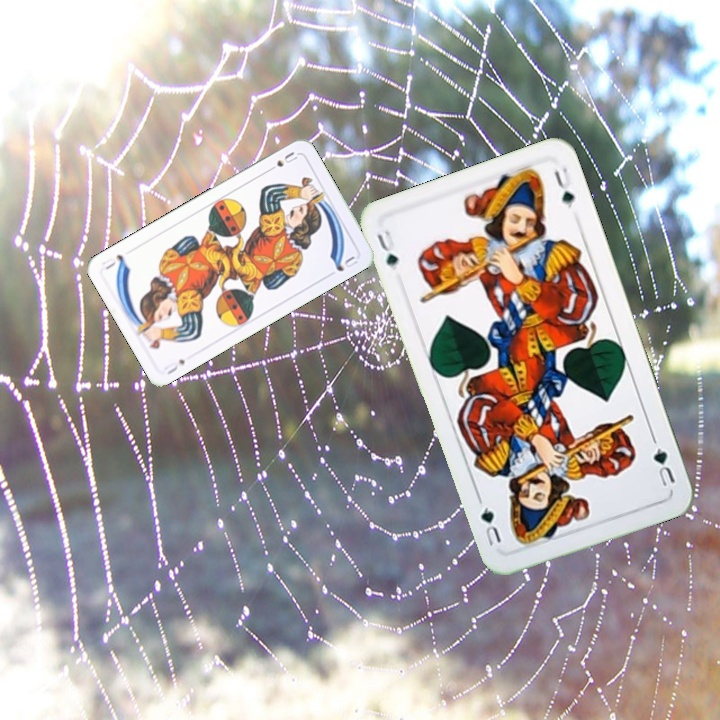GU: (649, 443, 678, 489), (373, 226, 401, 273)
SU: (263, 147, 300, 175), (160, 355, 188, 377)
